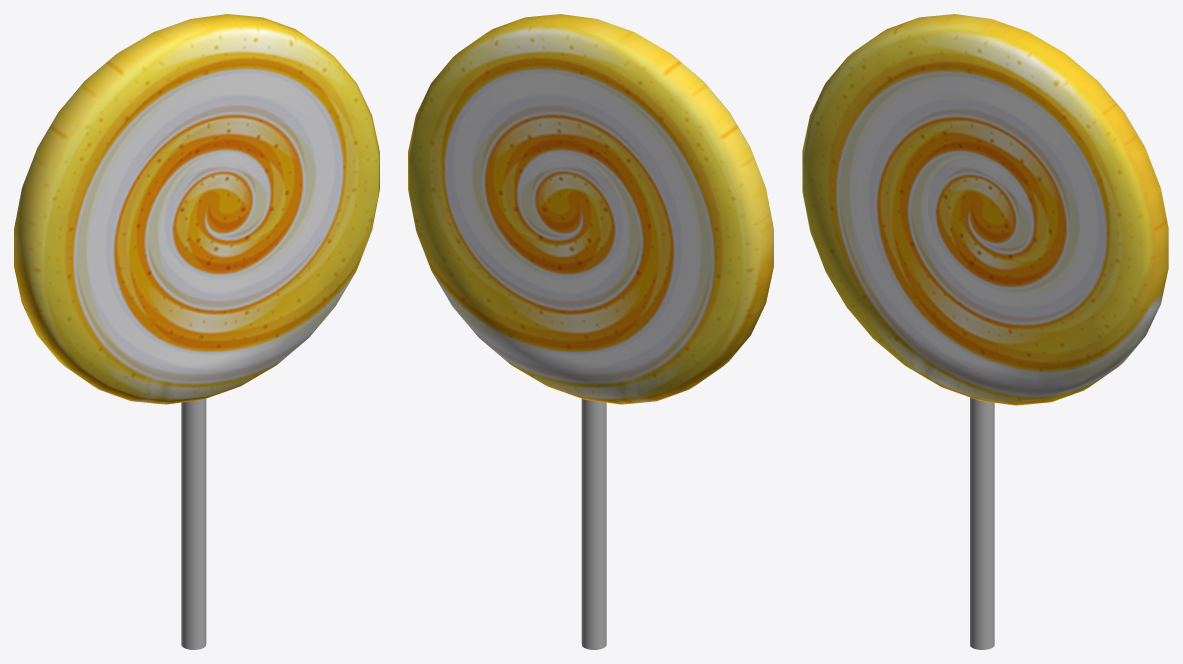
The model's file is PaletaPiruetaAmarillo.obj.
3 views of the same model, side by side, from view 1: azimuth 30°, elevation 25°; view 2: azimuth 150°, elevation 25°; view 3: azimuth 330°, elevation 25° (orthographic).
Visible parts, largest first — view 1: Circle_Circle.002, Cylinder; view 2: Circle_Circle.002, Cylinder; view 3: Circle_Circle.002, Cylinder.
Boxes of the visible parts, box(x1,y1,x2,y2) form: Circle_Circle.002: box(14, 14, 379, 404); Cylinder: box(181, 399, 206, 649); Circle_Circle.002: box(408, 14, 773, 404); Cylinder: box(581, 399, 606, 649); Circle_Circle.002: box(802, 14, 1168, 405); Cylinder: box(970, 397, 994, 649).
Size of the model in its own units: 6.51 by 10.91 by 0.8009.
2 materials, 2 textured.
